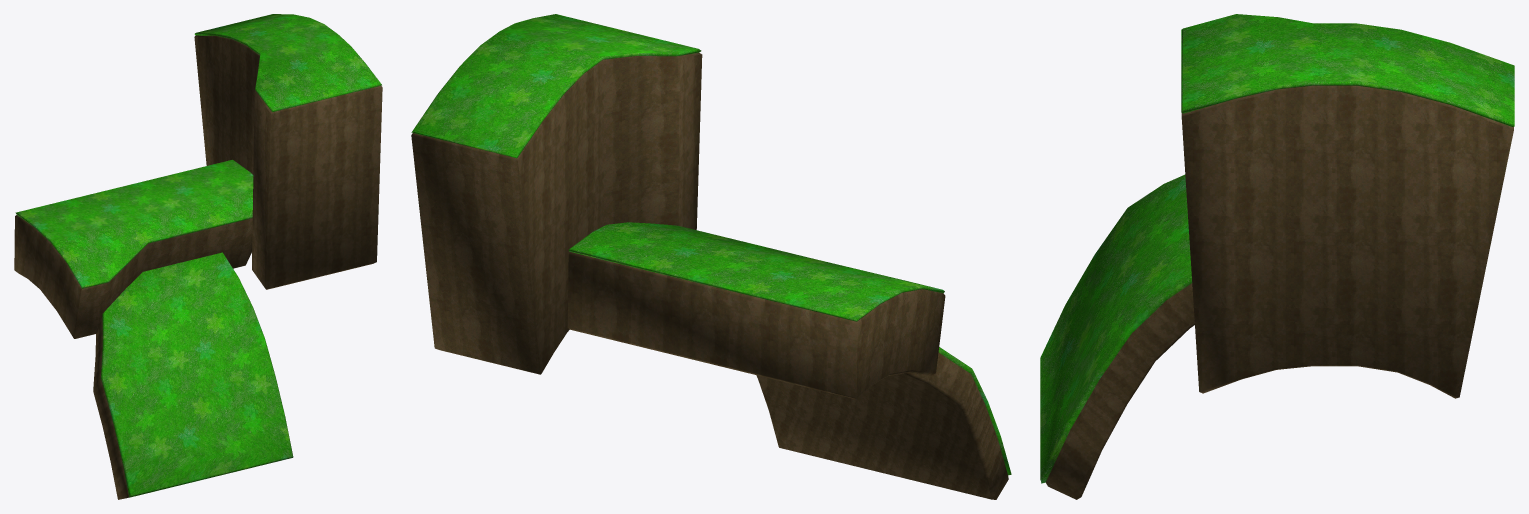
The model's file is HikeGardenSkyfortPlanet.fbx.
3 views of the same model, side by side, from view 1: azimuth 30°, elevation 25°; view 2: azimuth 150°, elevation 25°; view 3: azimuth 270°, elevation 25° (orthographic). The views are drawn at different scales.
Parts seen in each view (by area): view 1: Plane.001, Plane.000; view 2: Plane.000, Plane.001; view 3: Plane.000, Plane.001.
Part boxes in pixels (bbox=[...]): Plane.001: bbox=[15, 14, 381, 497]; Plane.000: bbox=[14, 35, 382, 499]; Plane.000: bbox=[411, 52, 1008, 499]; Plane.001: bbox=[411, 14, 1011, 475]; Plane.000: bbox=[1046, 85, 1513, 499]; Plane.001: bbox=[1040, 14, 1514, 483].
Bounding box in the file's own units: 221856 × 238964 × 198260.
Materials: 2 (2 with a texture image).
